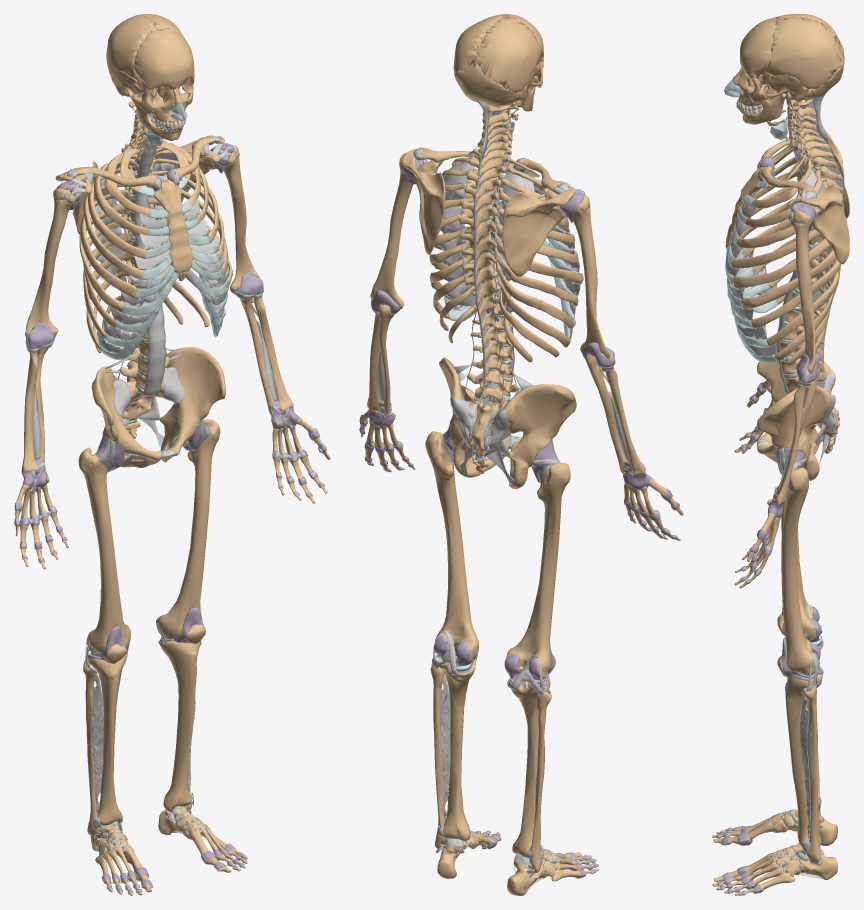
The model's file is skeleton.glb.
3 views of the same model, side by side, from view 1: azimuth 30°, elevation 25°; view 2: azimuth 150°, elevation 25°; view 3: azimuth 270°, elevation 25° (orthographic). The views are drawn at different scales.
Parts seen in each view (by area): view 1: Object_9, Object_57, Object_4, Object_42; view 2: Object_9, Object_57, Object_4, Object_42; view 3: Object_9, Object_57, Object_4, Object_42, Object_50.
Part boxes in pixels (<box>): Object_9: <box>15,14,330,895</box>; Object_57: <box>15,108,326,894</box>; Object_4: <box>14,143,325,893</box>; Object_42: <box>27,95,297,861</box>; Object_9: <box>360,14,683,895</box>; Object_57: <box>360,97,679,891</box>; Object_4: <box>359,154,679,878</box>; Object_42: <box>390,89,628,877</box>; Object_9: <box>712,14,849,895</box>; Object_57: <box>717,92,843,895</box>; Object_4: <box>717,157,822,895</box>; Object_42: <box>724,79,824,876</box>; Object_50: <box>757,108,834,678</box>.
Size of the model in its own units: 0.6693 by 1.7 by 0.2501.
